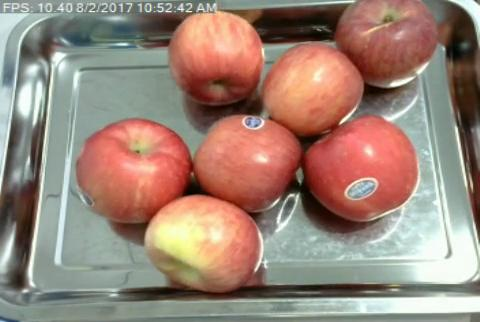apple: (302, 116, 417, 222), (75, 117, 192, 218), (145, 197, 263, 290), (193, 113, 296, 210), (336, 0, 440, 88), (168, 12, 263, 104), (265, 44, 362, 129)
